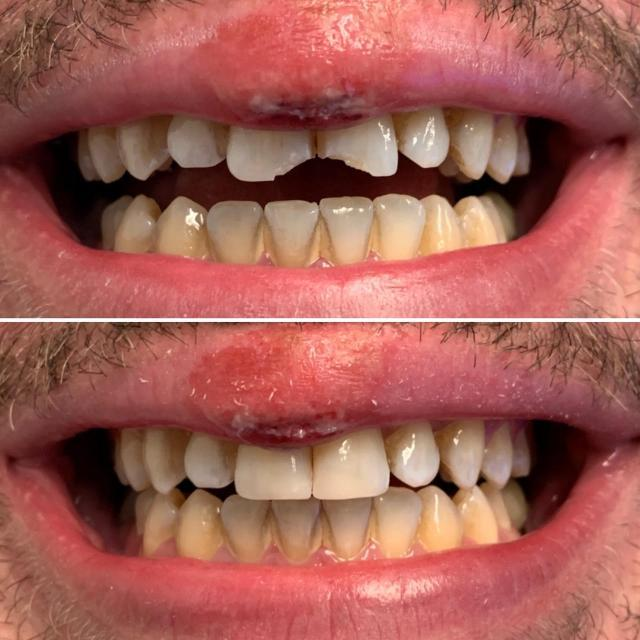Fractured Teeth: (317, 113, 399, 177), (226, 127, 316, 182)
